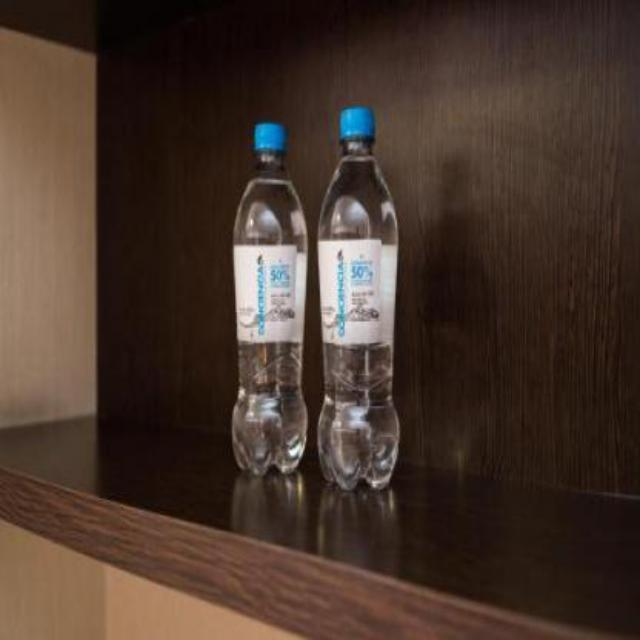bottle: (224, 112, 314, 484), (335, 95, 385, 507)
